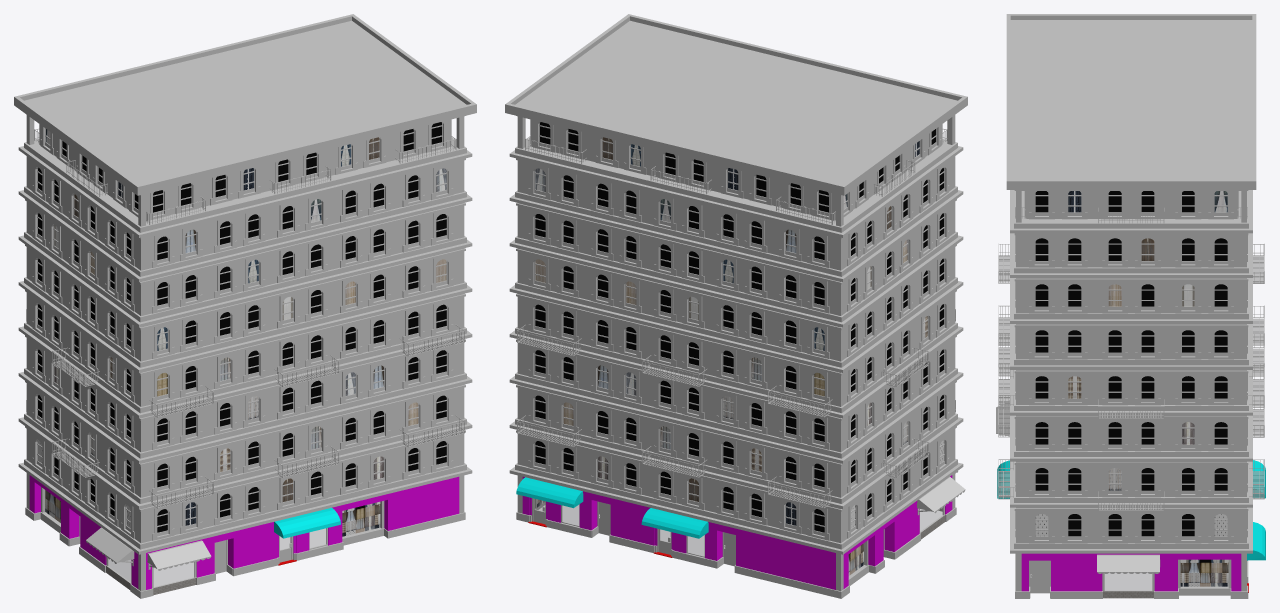
The model's file is Building07.fbx.
3 views of the same model, side by side, from view 1: azimuth 30°, elevation 25°; view 2: azimuth 150°, elevation 25°; view 3: azimuth 270°, elevation 25° (orthographic).
Visible parts, largest first — view 1: Building07; view 2: Building07; view 3: Building07.
Boxes of the visible parts, box(x1,y1,x2,y2) form: Building07: box(14, 14, 476, 598); Building07: box(505, 14, 967, 598); Building07: box(996, 14, 1265, 598).
Size of the model in its own units: 3282 by 3653 by 2122.
